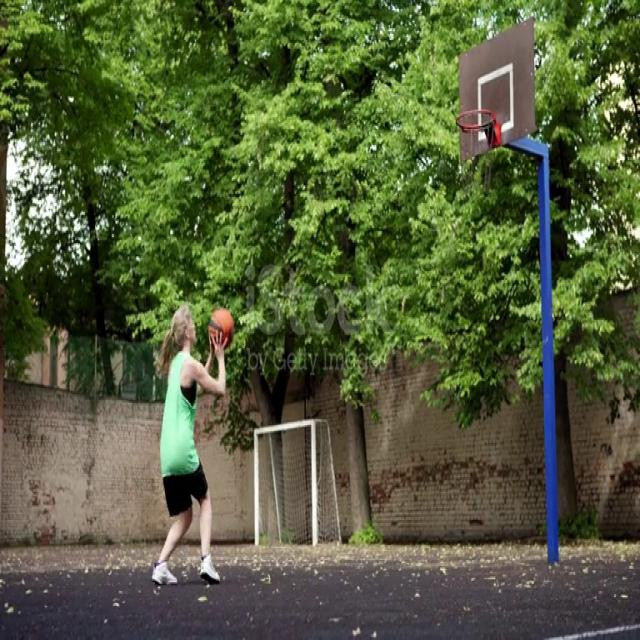ball: (208, 308, 234, 348)
